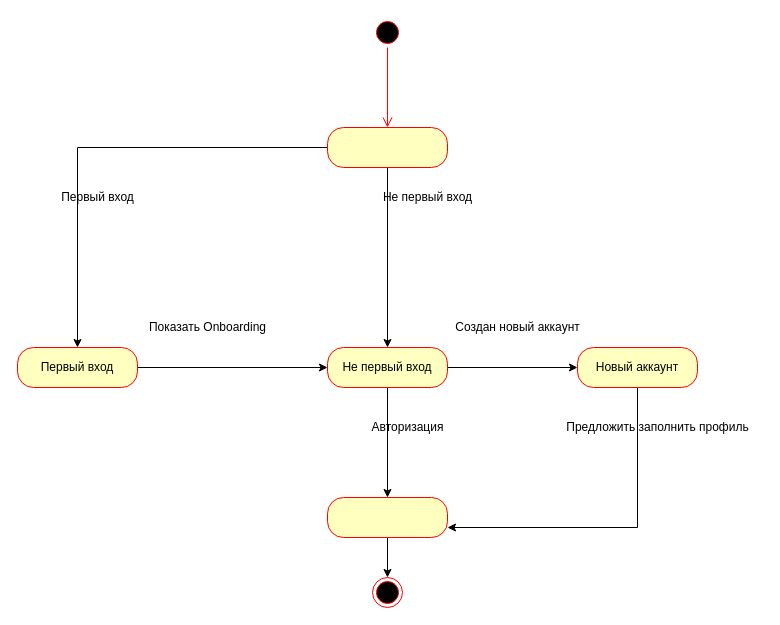
Some shapes in this 780 by 625 pixel diagram are drawn without their labels. The shapes that lost their labels are listed below. From the top down, each one's centre as x and y in pixels, then its label:
At point 387,147: "Гость".
At point 387,517: "Пользователь".
